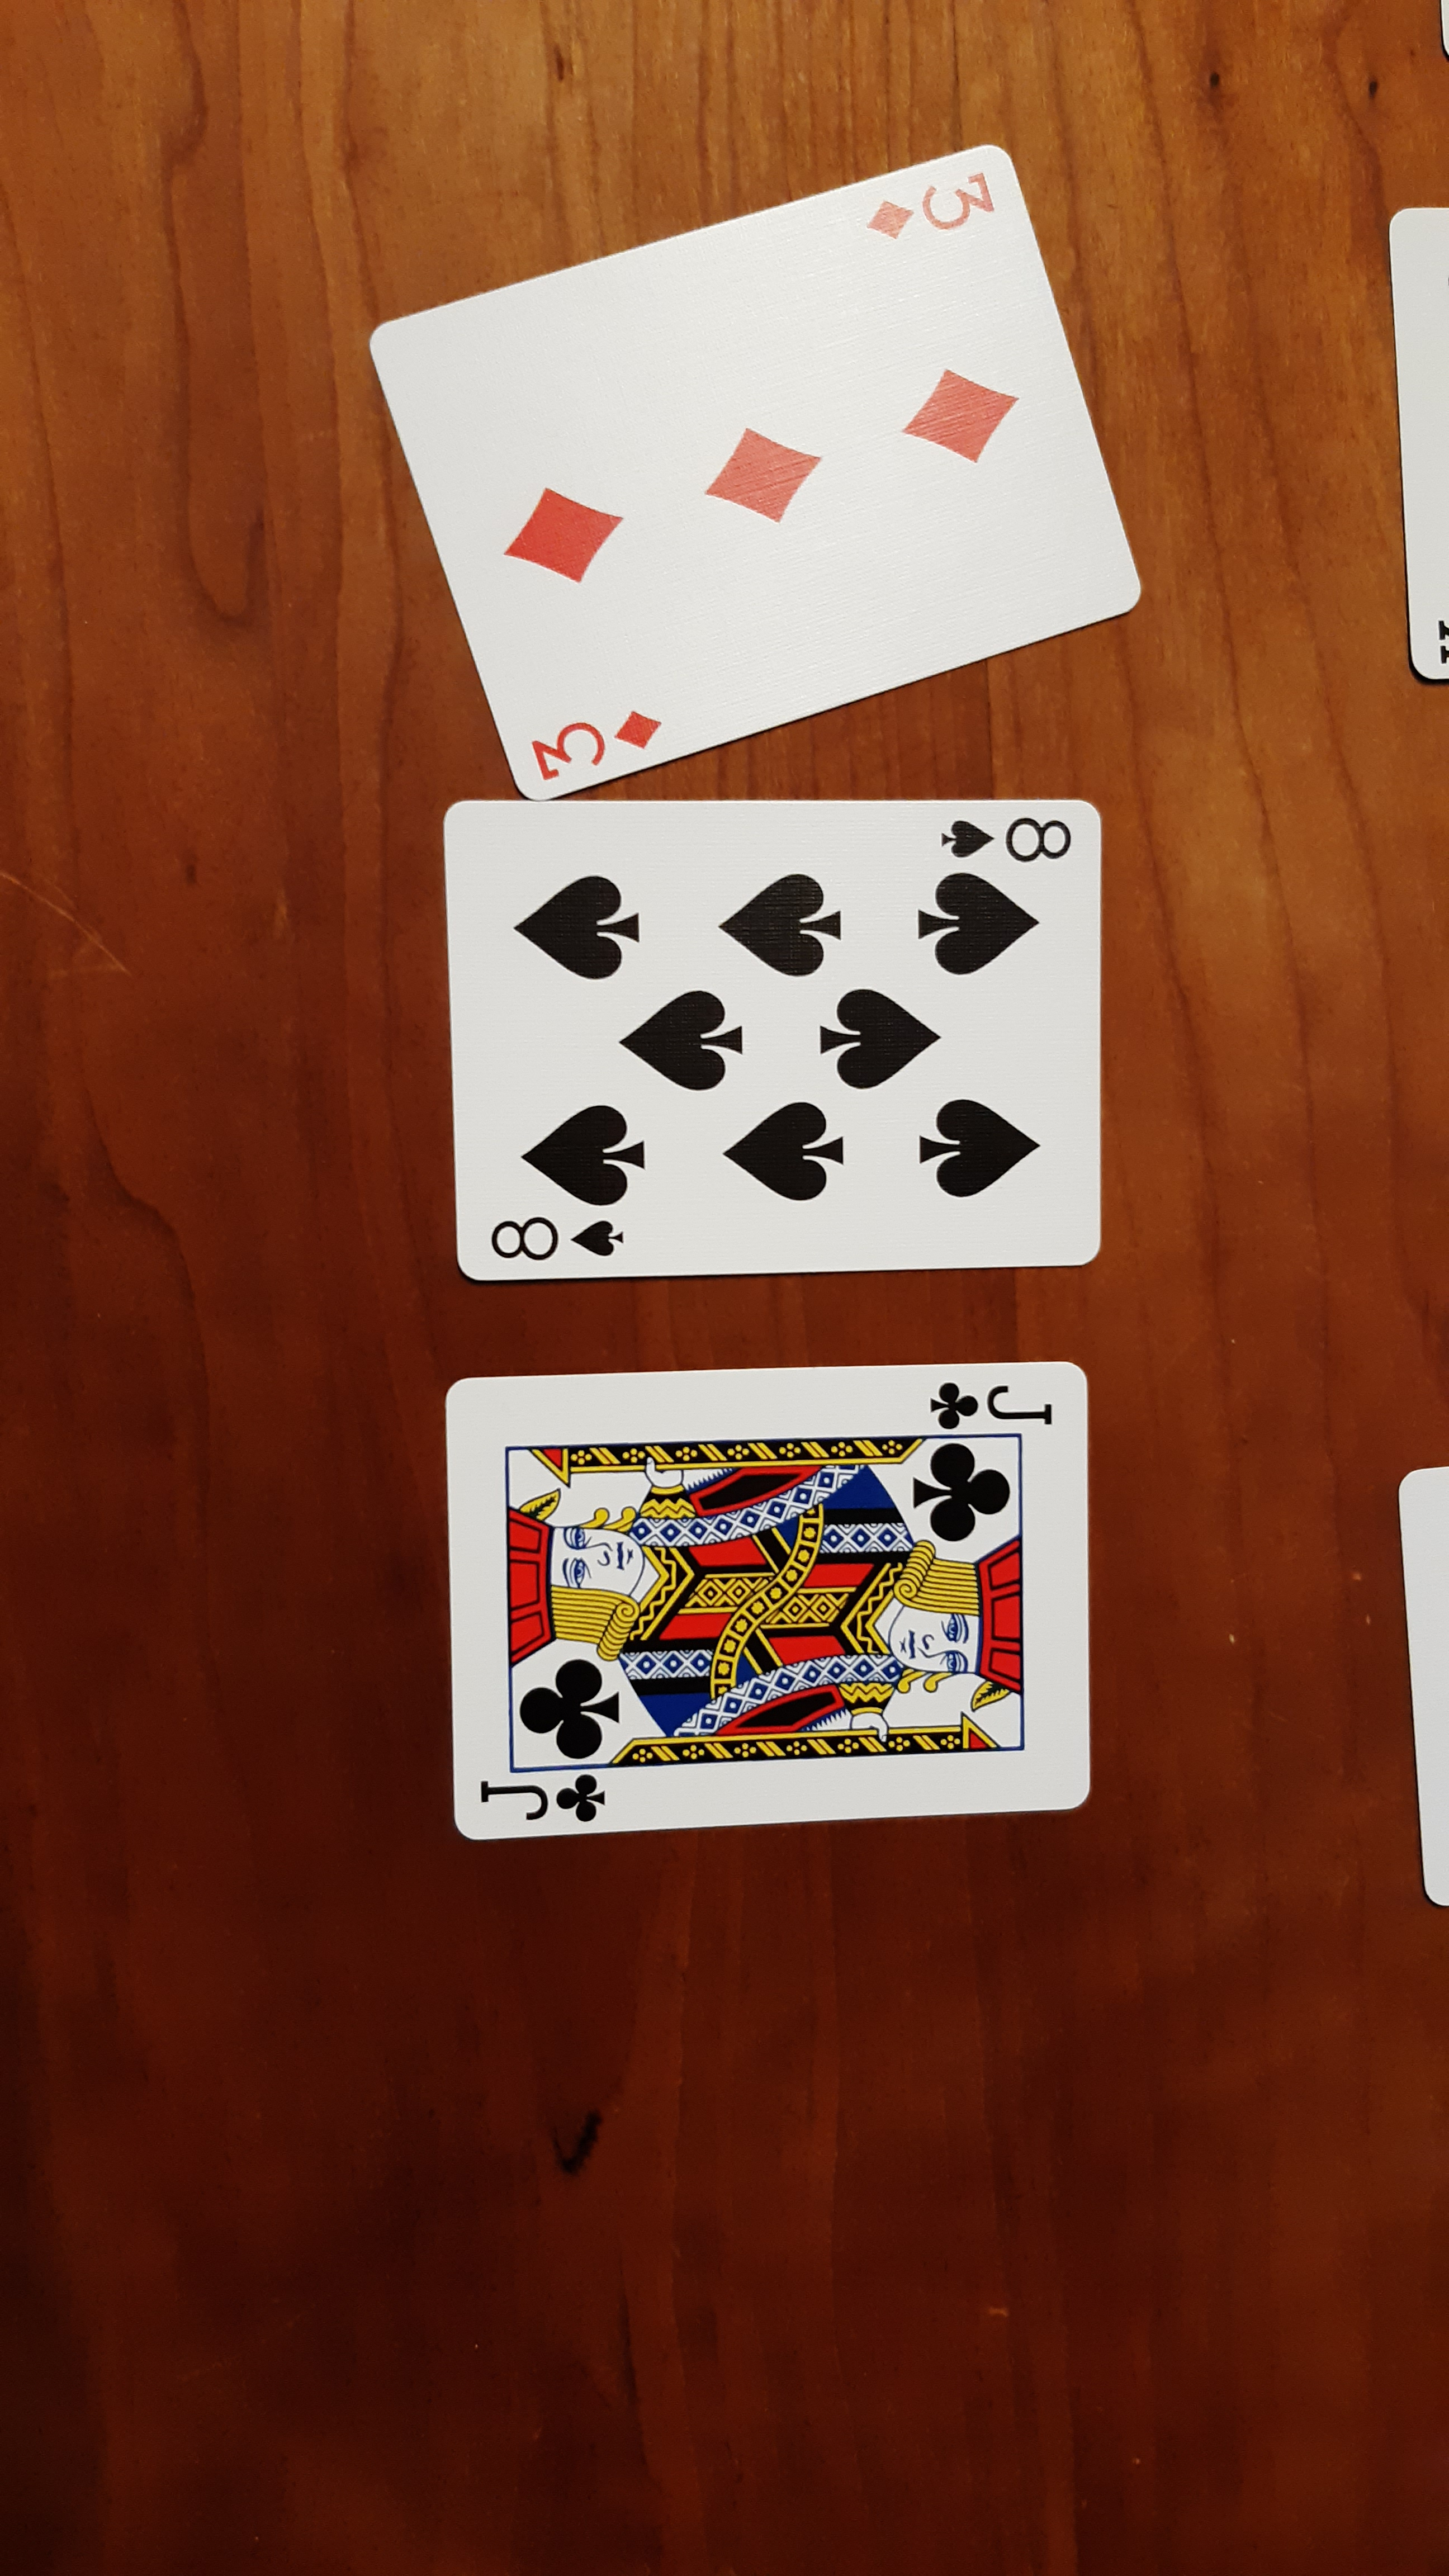Black_Club_Jack: (915, 1368, 1067, 1444), (465, 1771, 612, 1833)
Black_Spade_8: (462, 1198, 635, 1269), (924, 801, 1081, 879)
Red_Diamond_3: (515, 702, 671, 796), (855, 159, 1003, 249)
